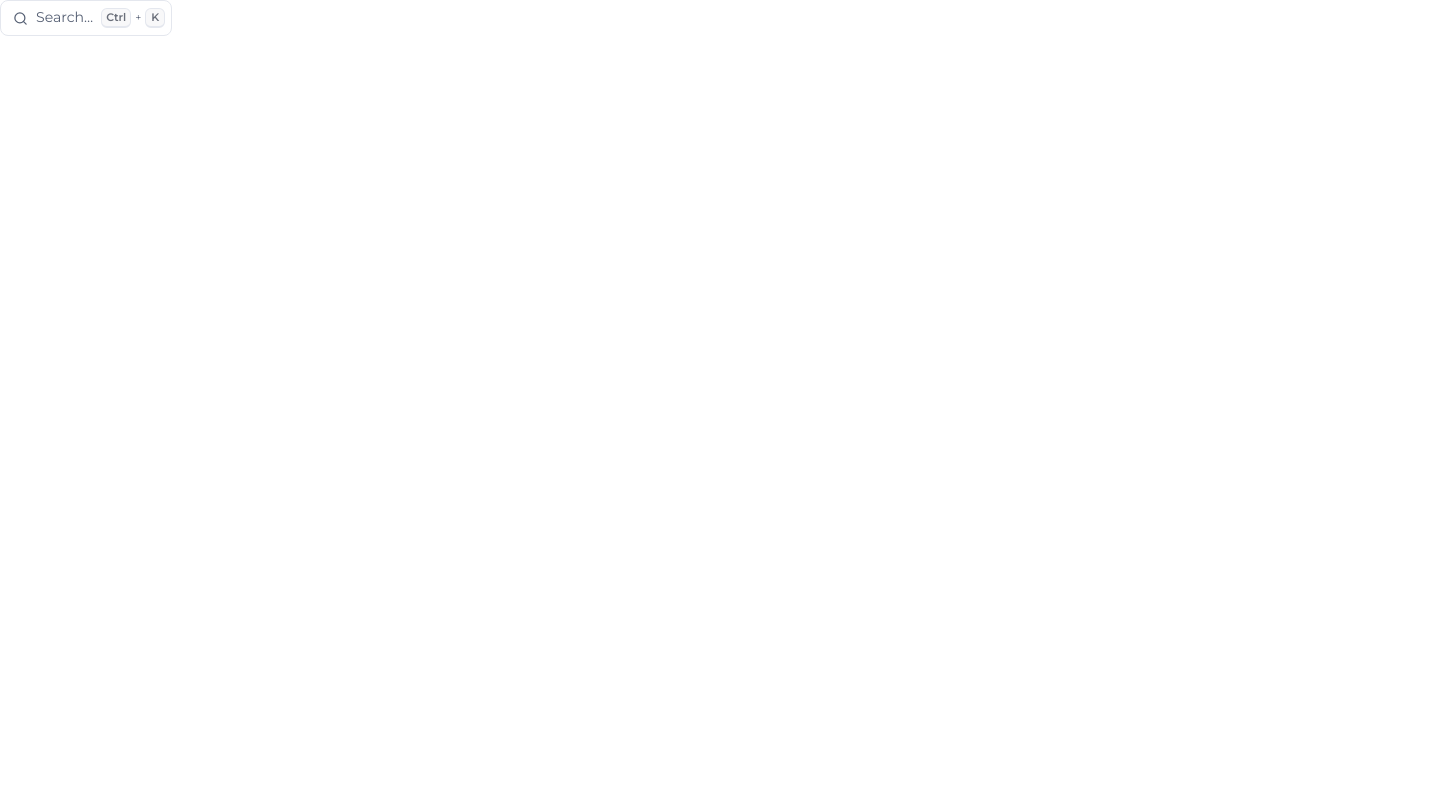
Test: CommandPalette › opens on Ctrl+K, filters as you type (by keyword too), and goes there on Enter
Press k
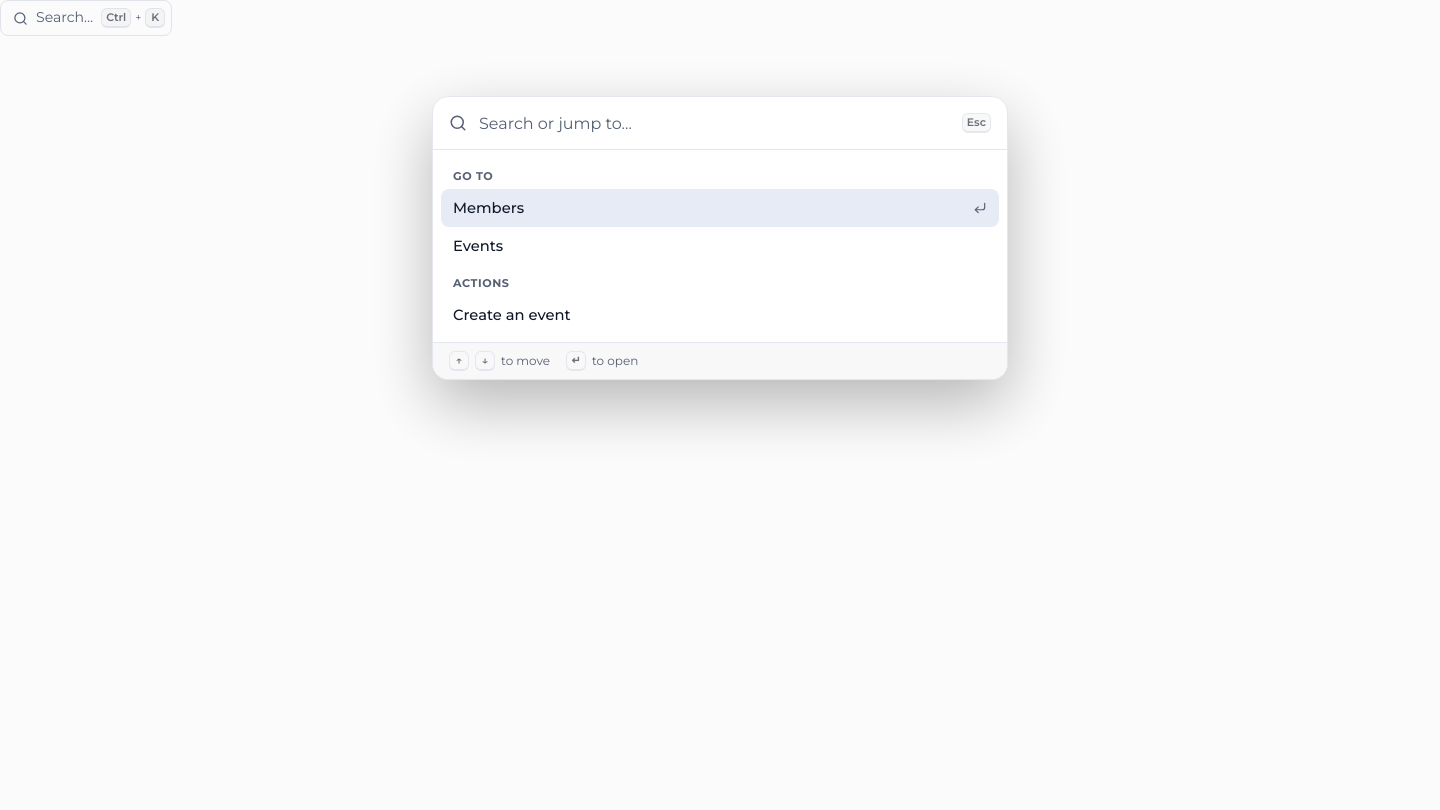
Type "peo" into the dropdown at {"x": 714, "y": 123}, box x1=479 y1=97 x2=950 y2=149
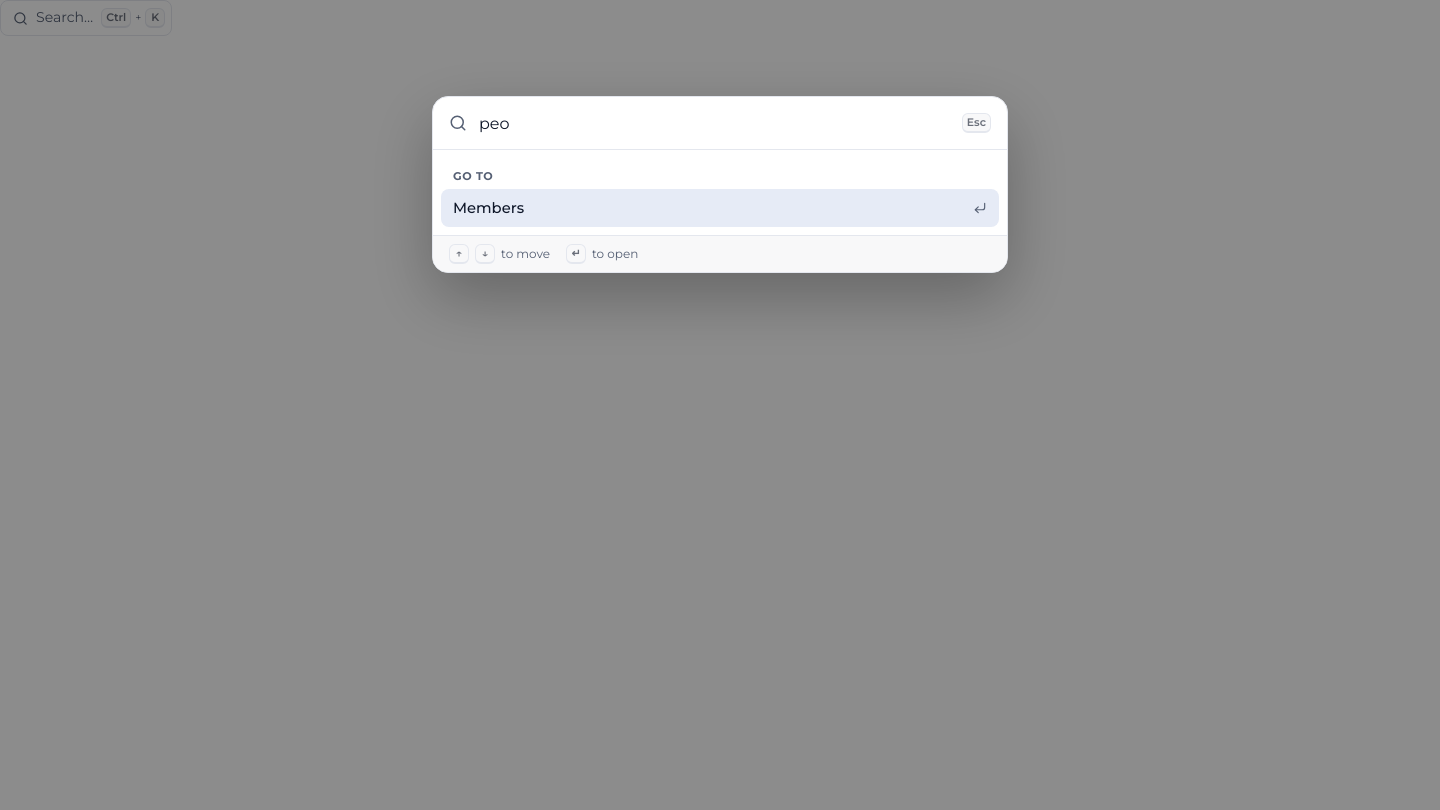
Now the options read "Members", in this order, box x1=441 y1=189 x2=999 y2=227
Press Enter in the dropdown, box x1=479 y1=97 x2=950 y2=149
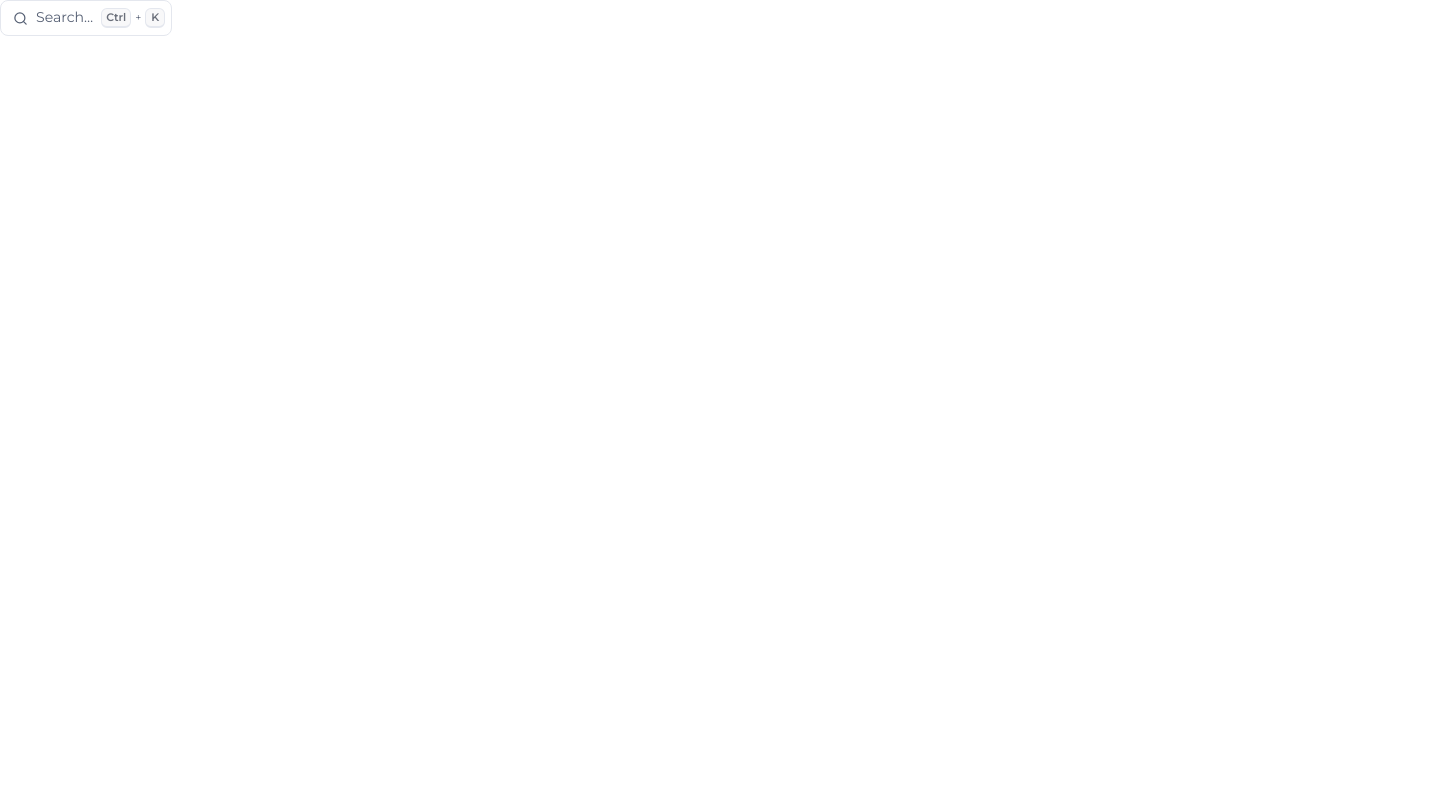
Now the dropdown is gone
